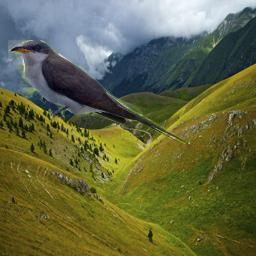Cuckoo: (8, 40, 185, 147)
